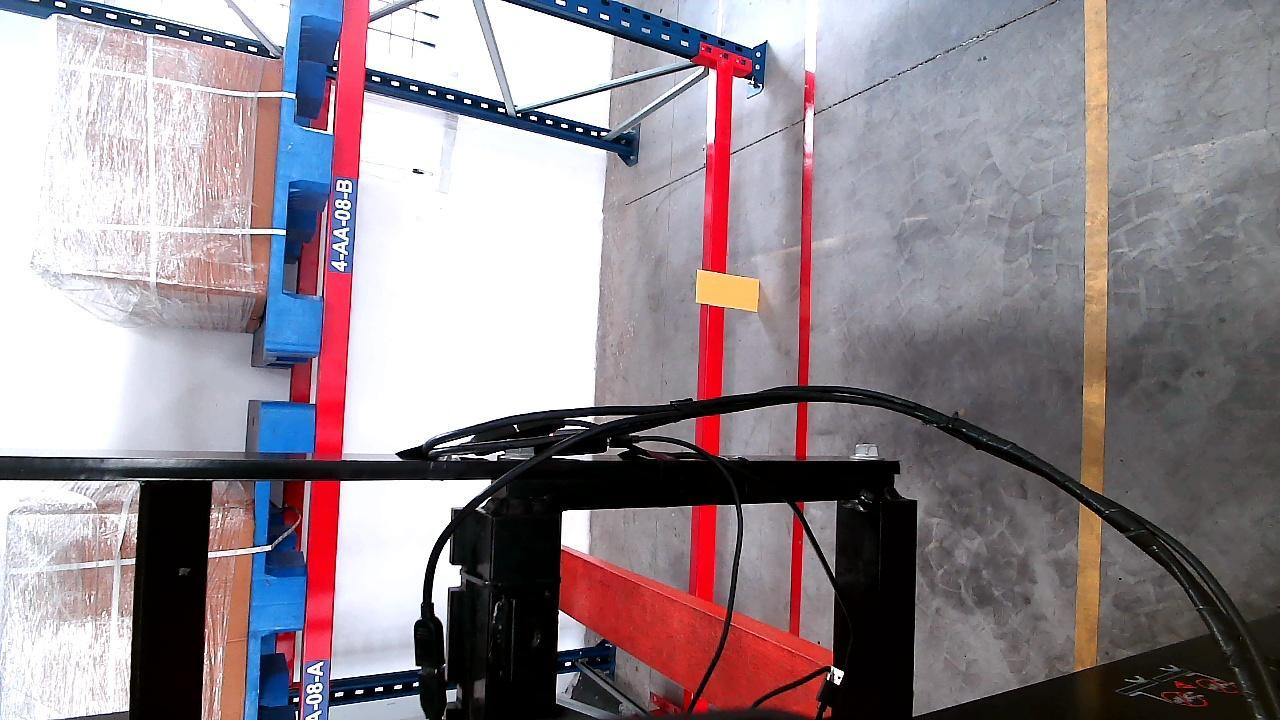red_line: (788, 2, 814, 639)
yellow_line: (1078, 4, 1112, 673)
